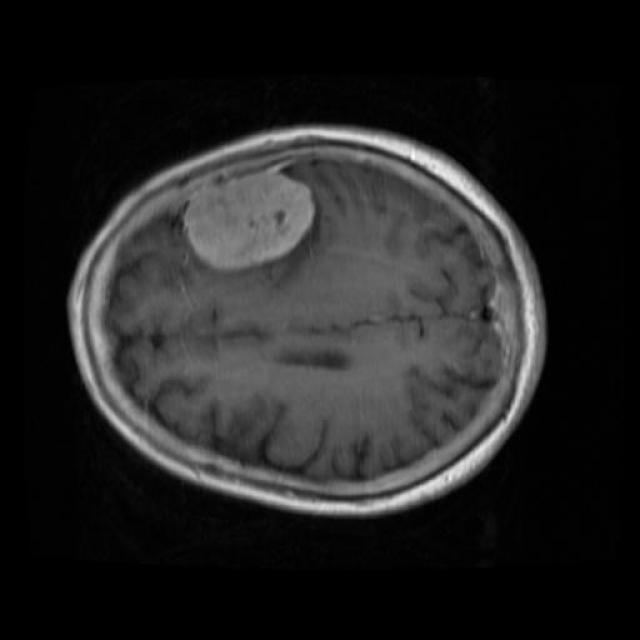Meningioma: (181, 153, 314, 269)
